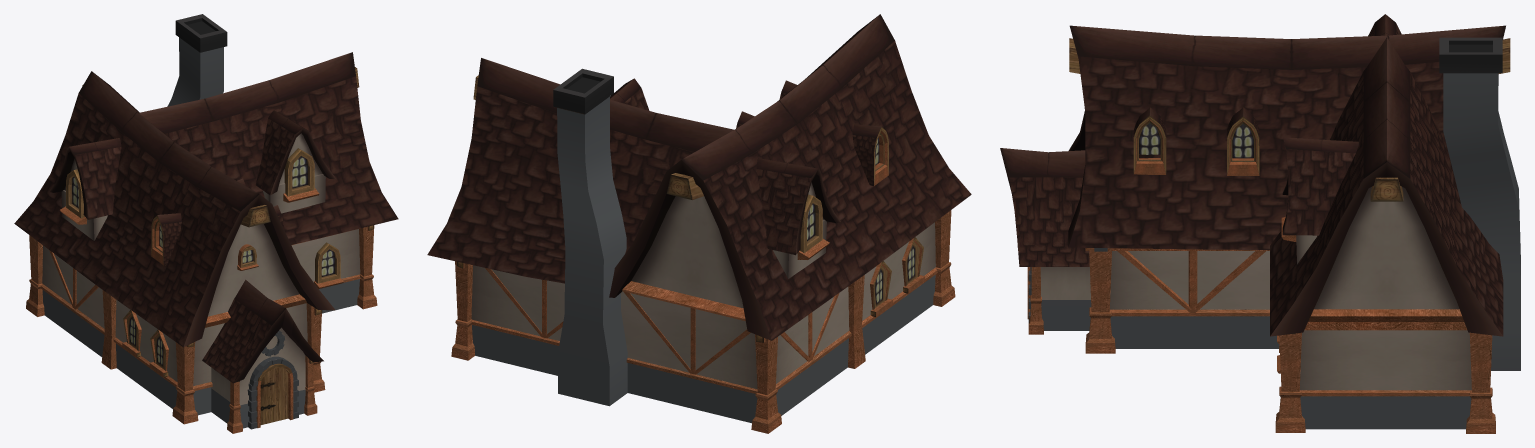
Rendered from fanasty_mod_village_building18.fbx.
3 views of the same model, side by side, from view 1: azimuth 30°, elevation 25°; view 2: azimuth 150°, elevation 25°; view 3: azimuth 270°, elevation 25° (orthographic). The views are drawn at different scales.
Parts seen in each view (by area): view 1: village_building_018; view 2: village_building_018; view 3: village_building_018.
Part boxes in pixels (bbox=[...]): village_building_018: bbox=[14, 14, 398, 433]; village_building_018: bbox=[427, 14, 971, 433]; village_building_018: bbox=[1000, 14, 1520, 433].
Size of the model in its own units: 12.51 by 10.17 by 14.84.
